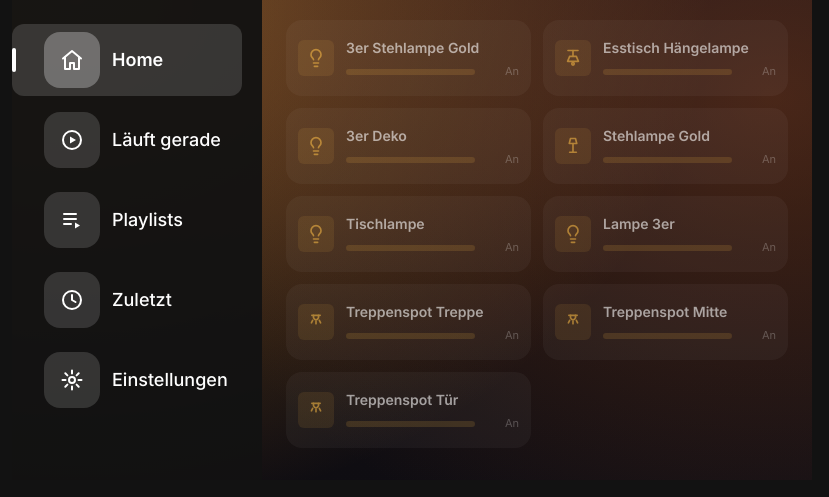
Test case: ContentCarousel › binds the Einstellungen category to the vertical settings list (bug25)
The image size is (829, 497).
Click the button "Einstellungen" at (127, 380), box [12,344,242,416]
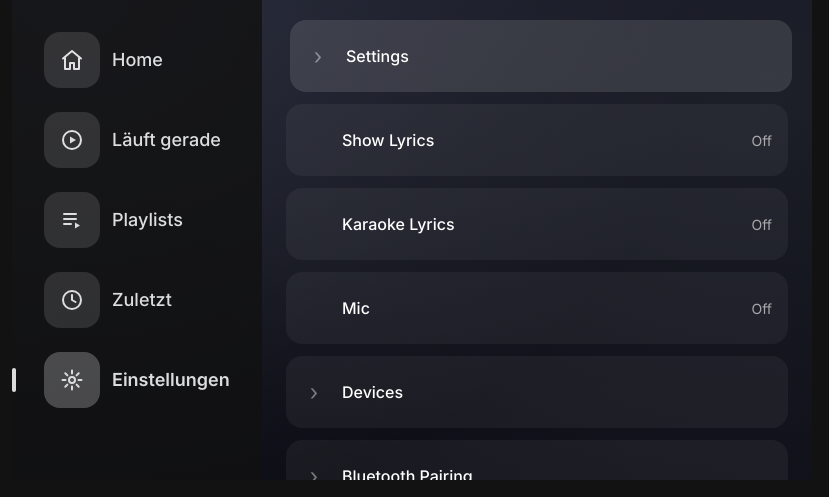
Result: the text "Settings" is shown at [346,45,409,67]
Result: the text "Show Lyrics" is shown at [342,129,434,151]
Result: the text "Karaoke Lyrics" is shown at [342,213,455,235]
